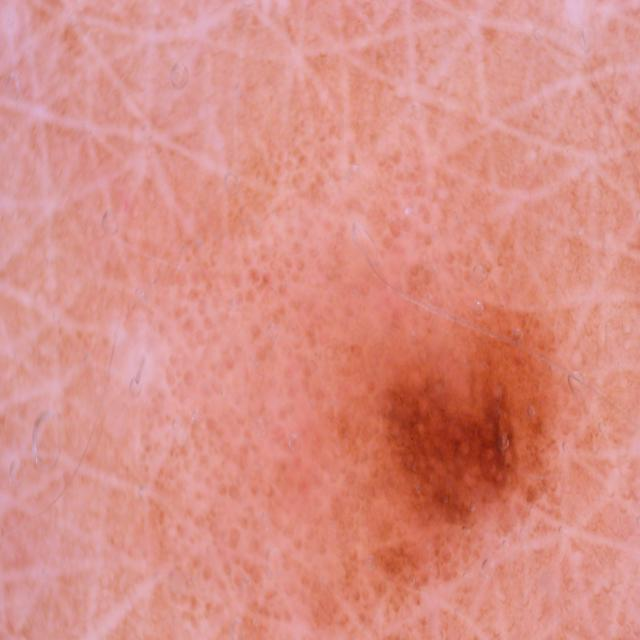Melanoma: (201, 215, 590, 574)
